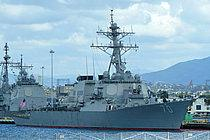MIL_Ship: (13, 9, 197, 131)
